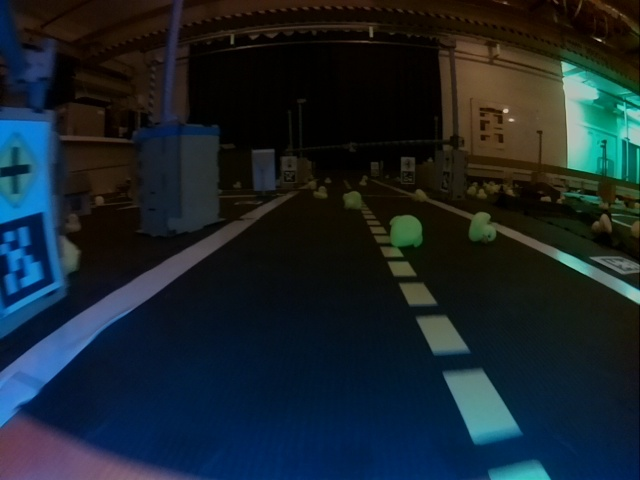Duckie: (389, 215, 424, 244), (59, 235, 79, 273), (469, 213, 496, 241), (591, 215, 610, 234), (344, 191, 361, 209), (313, 186, 327, 199)
Intersection sign: (4, 132, 40, 206)
QR code: (6, 212, 54, 308), (595, 254, 636, 276)
